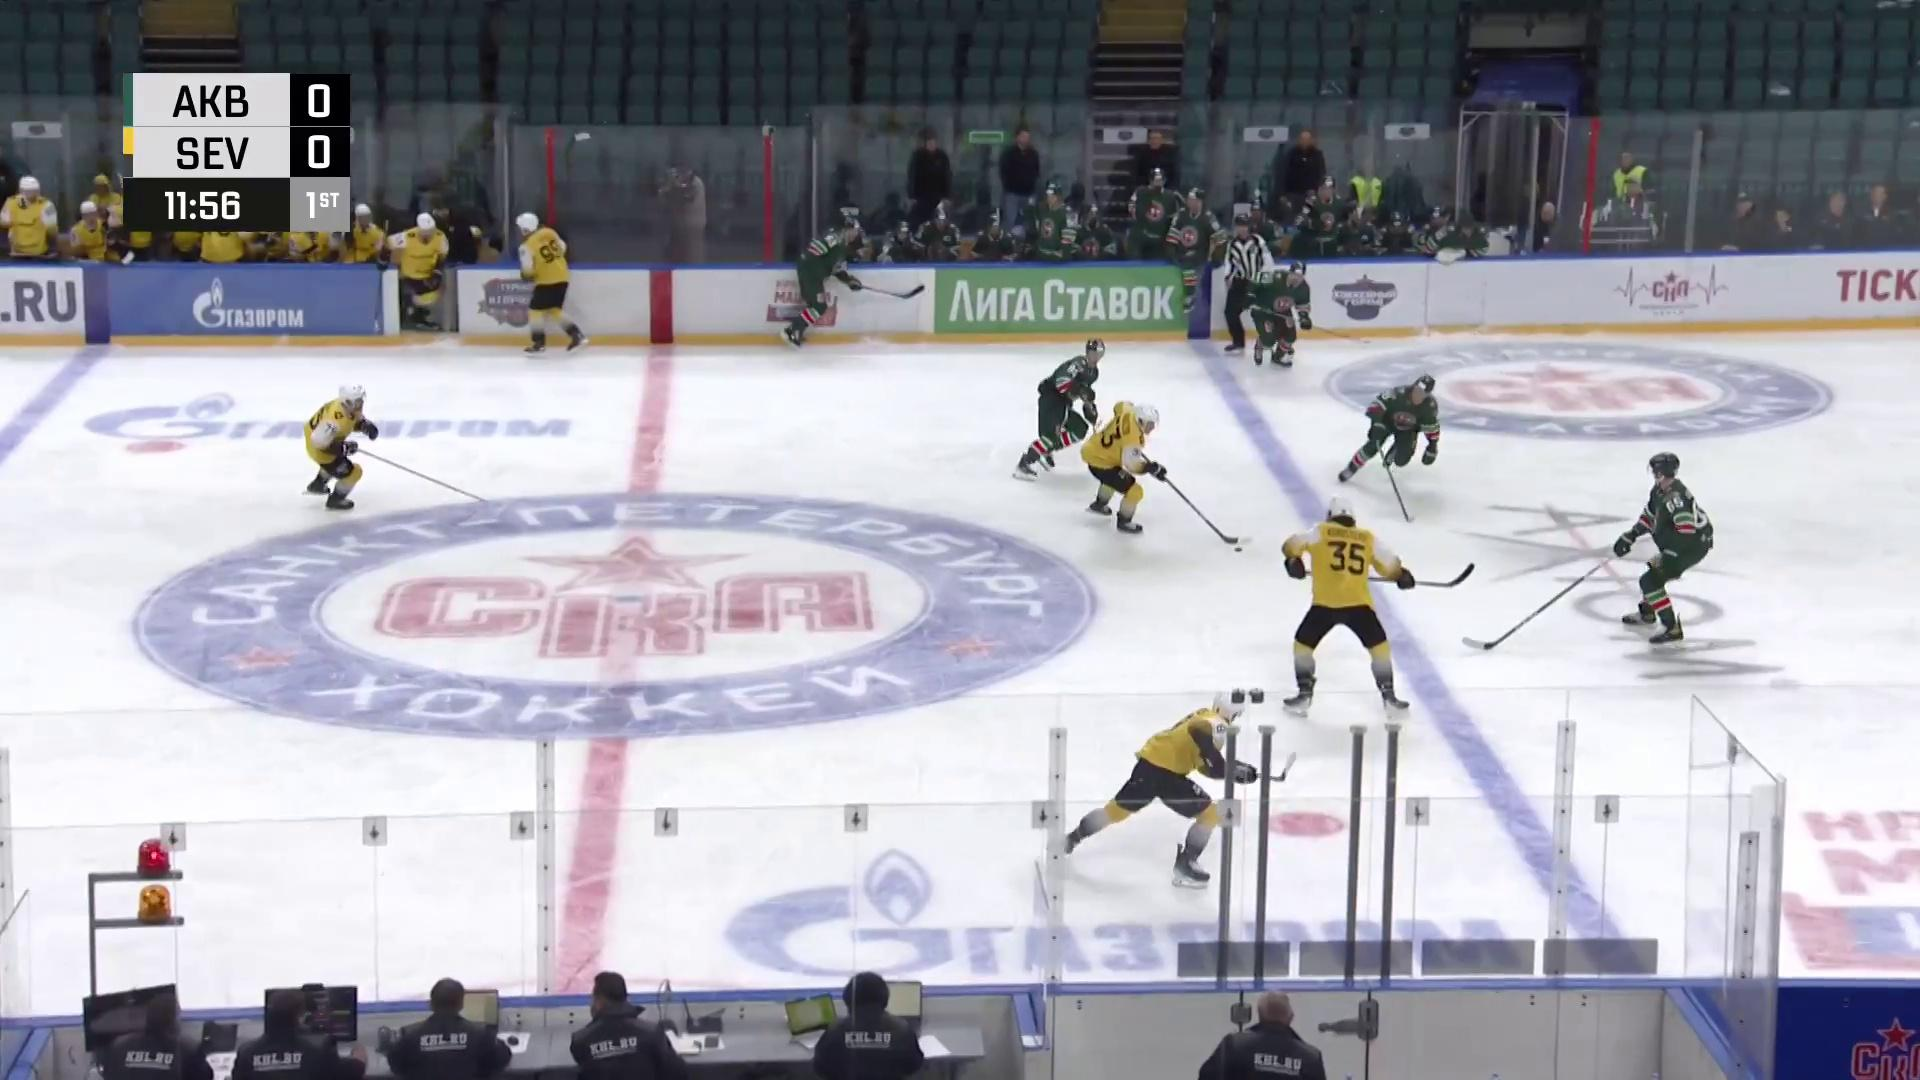ball: (1234, 546, 1242, 553)
